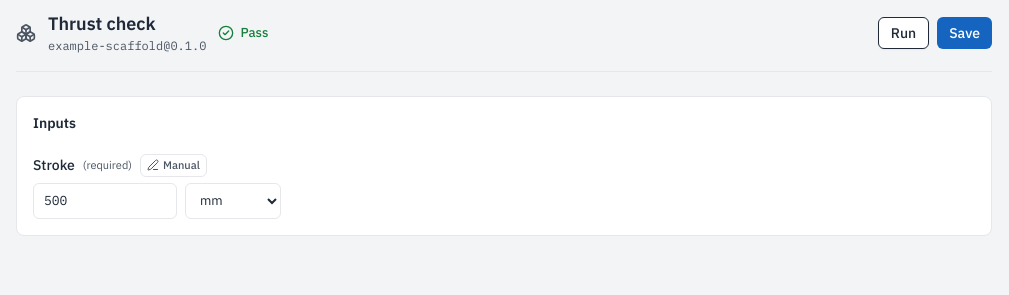
Test: ModuleInputWorkspace › shows Run's error message near the header on a failed preview
What coordinates should you click on to do the following:
click the button "Run"
I would click on:
 (904, 32)
Its box is [878,16,929,48].
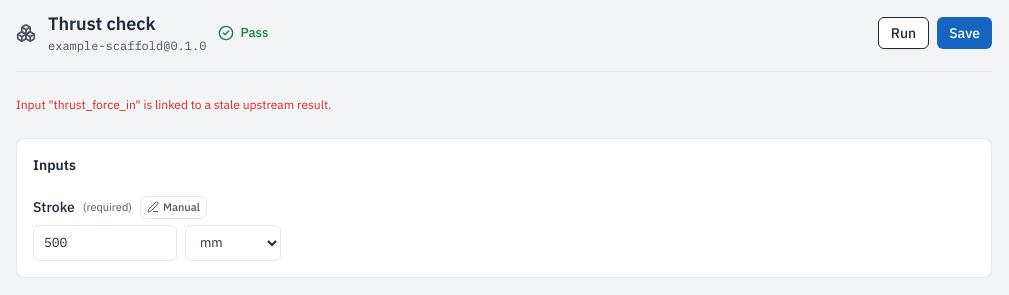
expect the message shows "stale upstream result": met, box [16,97,331,112]
